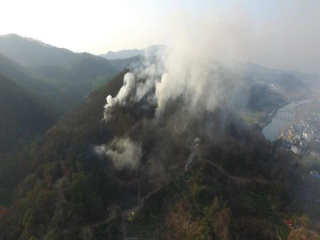smoke: (98, 13, 280, 169)
